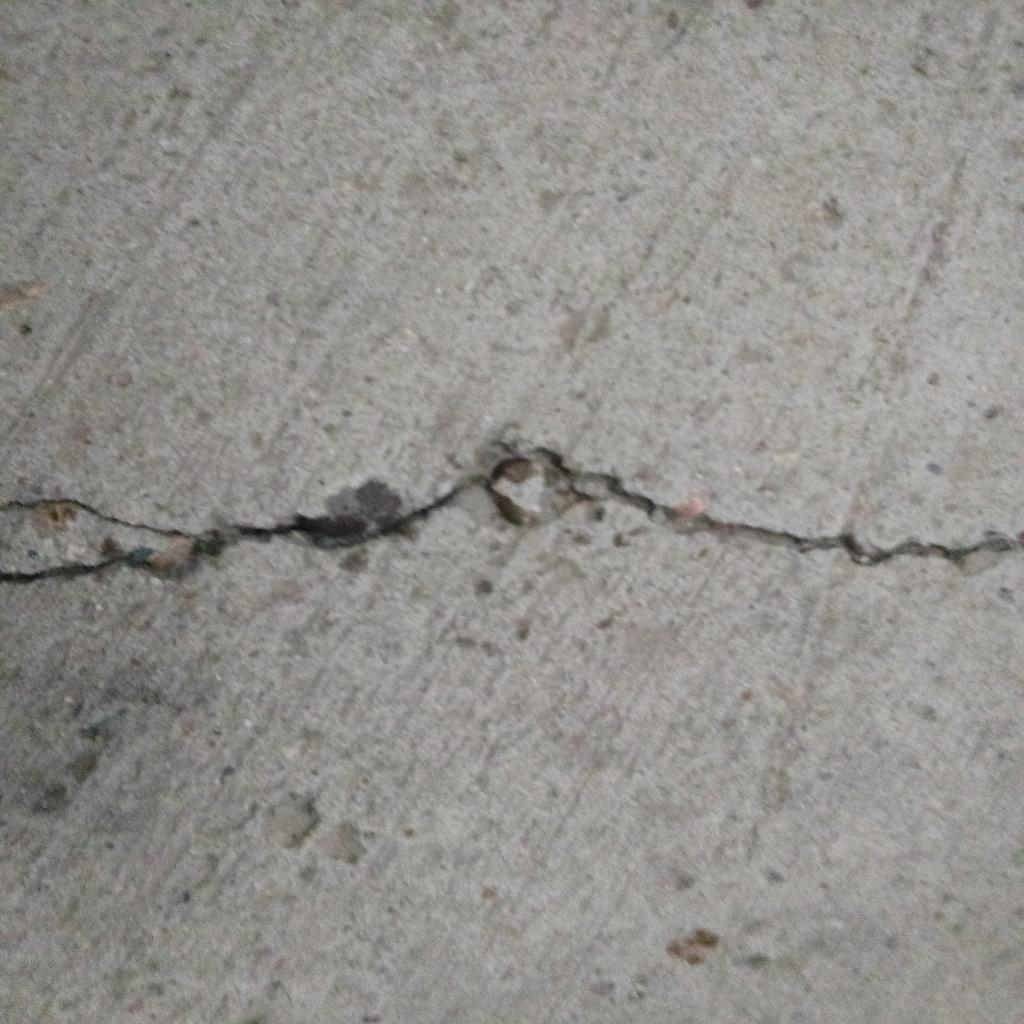Crack: (1, 446, 1024, 585)
